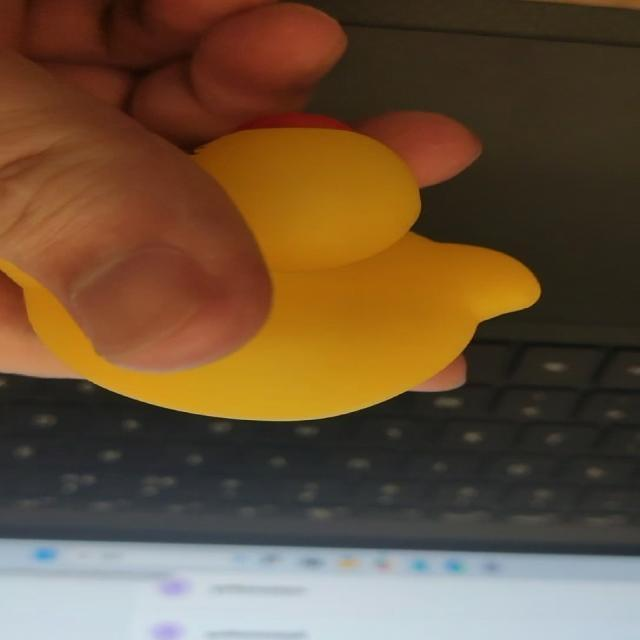rubber-duck: (0, 125, 538, 418)
